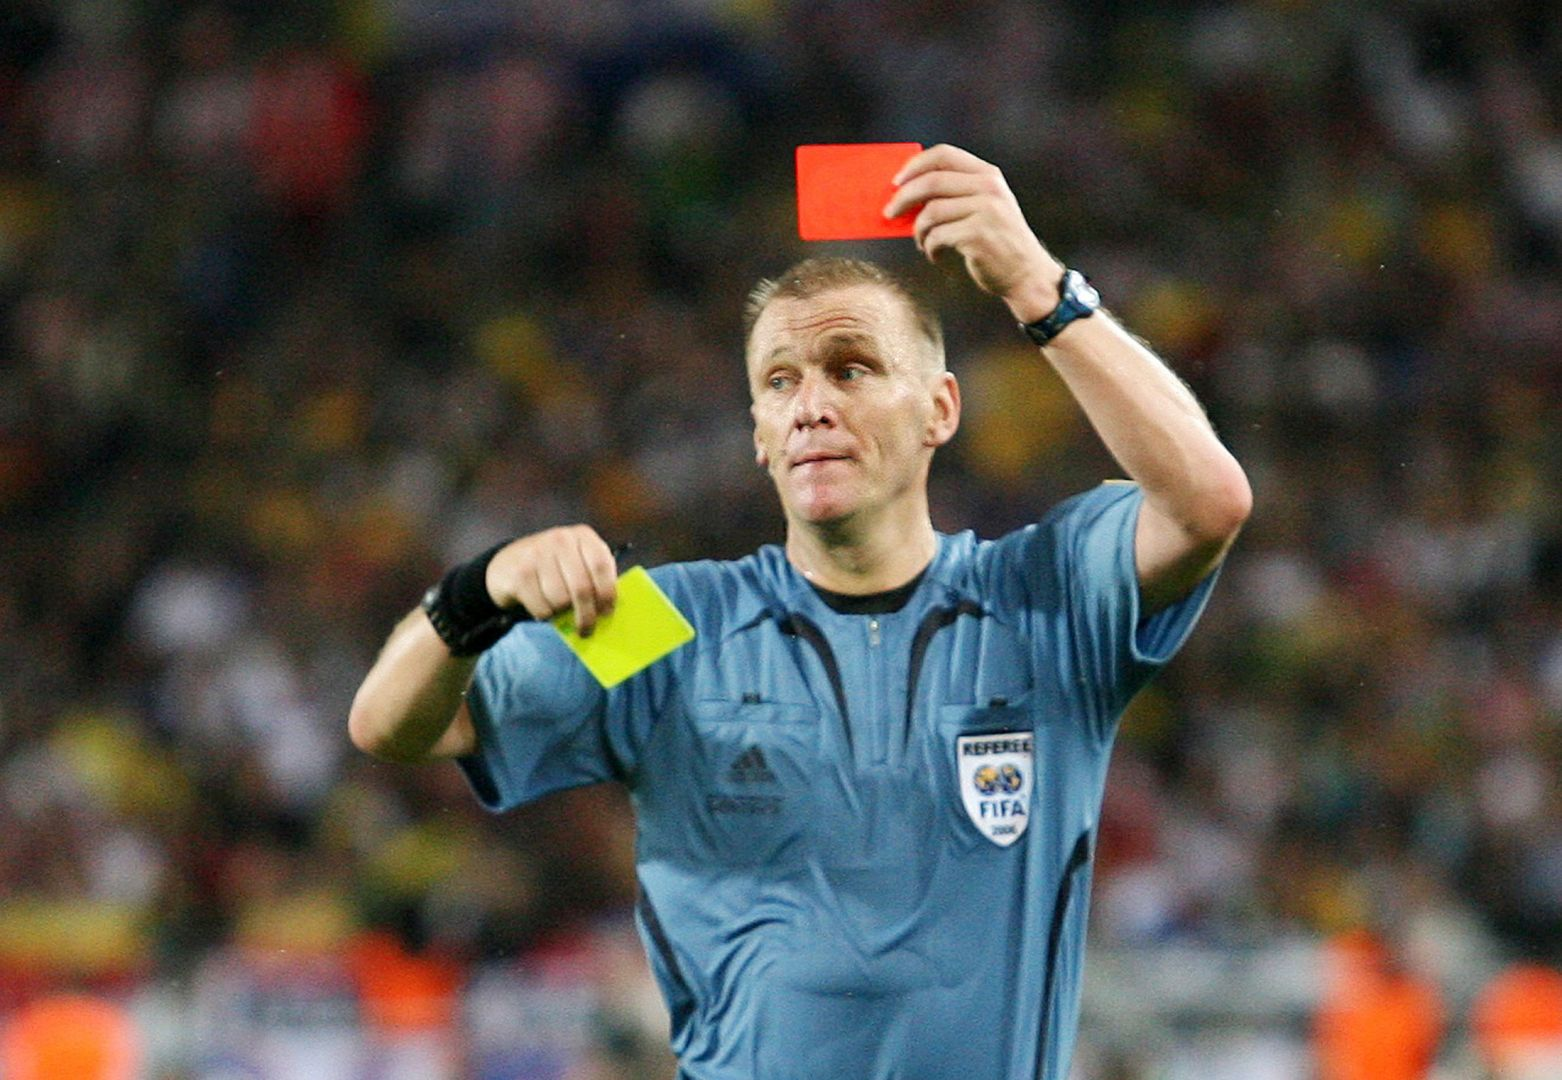red_card: (774, 129, 1026, 277)
